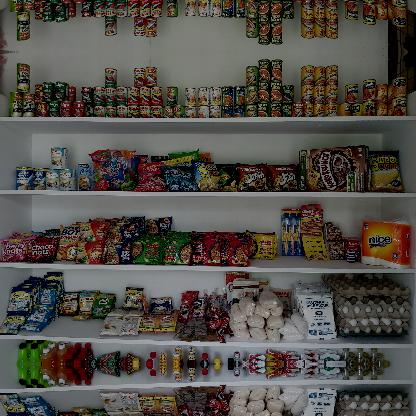Koko-Krunch: (298, 144, 368, 192)
